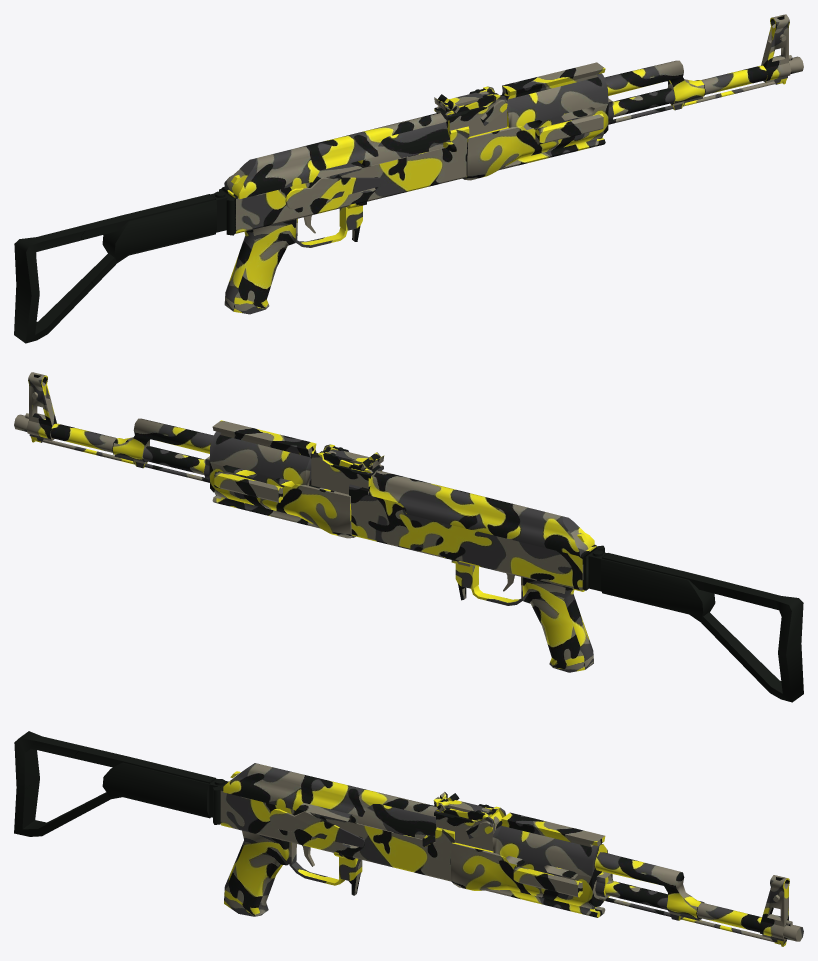
3 renders of one model, top to bottom at view 1: azimuth 30°, elevation 25°; view 2: azimuth 150°, elevation 25°; view 3: azimuth 330°, elevation 25°, orthographic.
Parts seen in each view (by area): view 1: Gun_Root; view 2: Gun_Root; view 3: Gun_Root.
Part boxes in pixels (x1=…): Gun_Root: x1=14, y1=14, x2=803, y2=343; Gun_Root: x1=14, y1=372, x2=803, y2=702; Gun_Root: x1=14, y1=731, x2=803, y2=946.
Size of the model in its own units: 0.8877 by 0.1782 by 0.0581.
2 materials, 2 textured.
